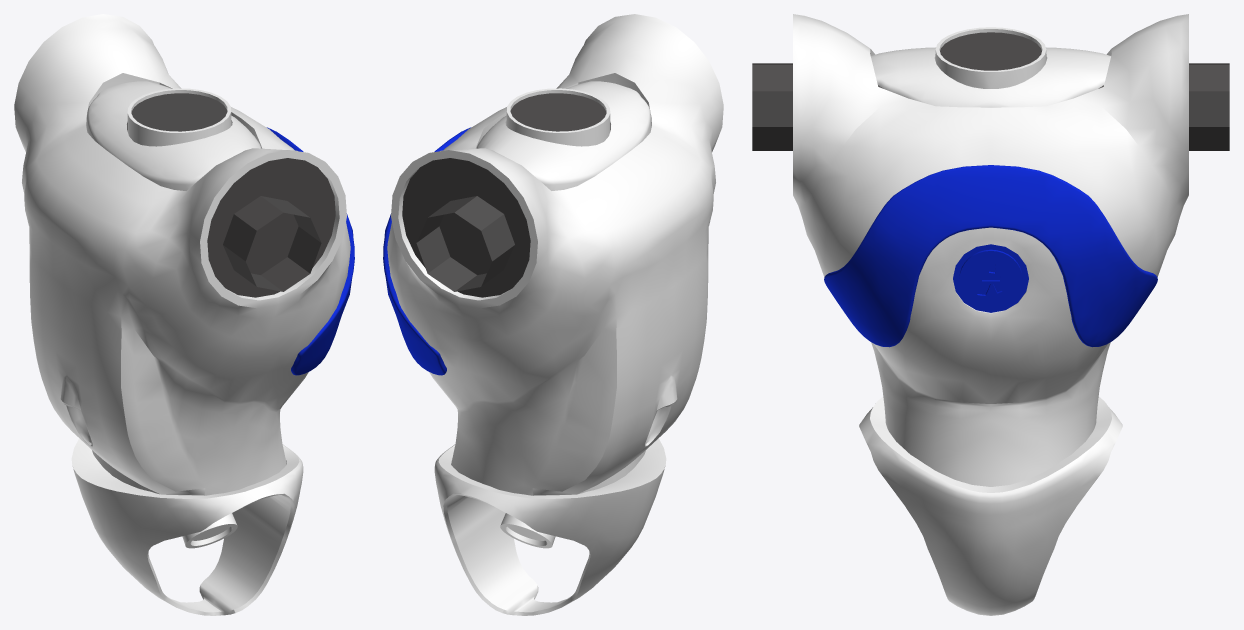
Rendered from Torso.dae.
3 renders of one model, left to right at view 1: azimuth 30°, elevation 25°; view 2: azimuth 150°, elevation 25°; view 3: azimuth 270°, elevation 25°, orthographic. The views are drawn at different scales.
Visible parts, largest first — view 1: Torso; view 2: Torso; view 3: Torso.
Part boxes in pixels (x1=…): Torso: x1=14, y1=14, x2=354, y2=615; Torso: x1=383, y1=14, x2=723, y2=615; Torso: x1=752, y1=14, x2=1229, y2=615.
Size of the model in its own units: 0.1116 by 0.174 by 0.2294.
Materials: 1 (1 with a texture image).
